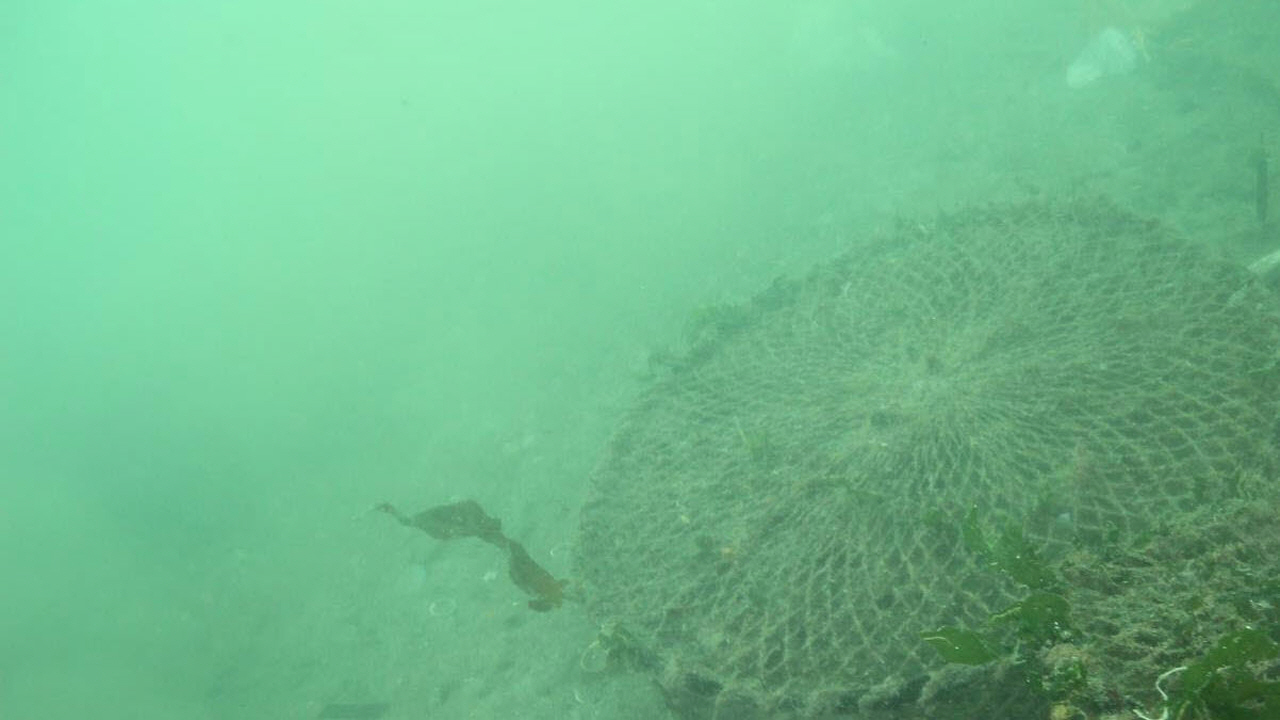circular fish trap: (571, 189, 1280, 719)
